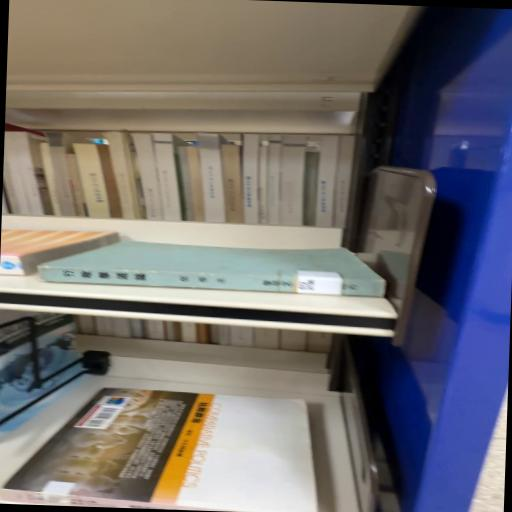flat: (1, 388, 319, 512), (39, 241, 385, 298)
